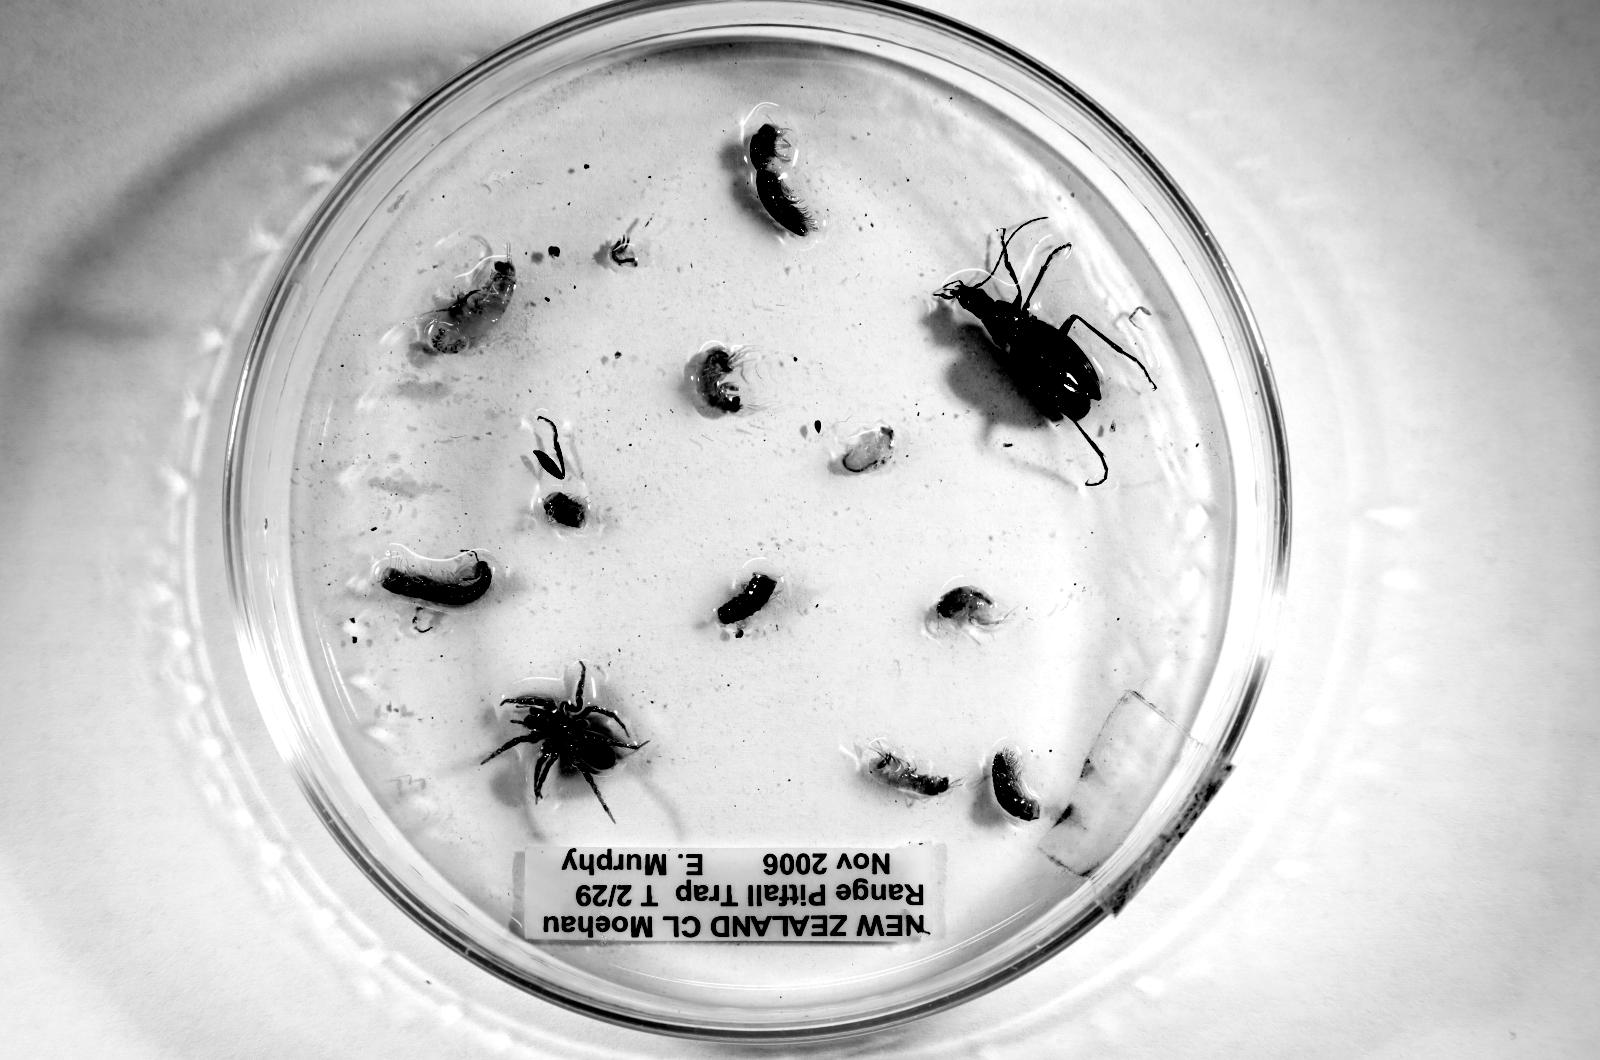amphipoda: (429, 253, 516, 353), (862, 740, 954, 796), (692, 343, 754, 413), (936, 586, 1006, 629), (840, 425, 894, 473)
araneae: (483, 662, 648, 823)
carabidae: (935, 219, 1154, 486)
diplopoda: (383, 561, 492, 604)
